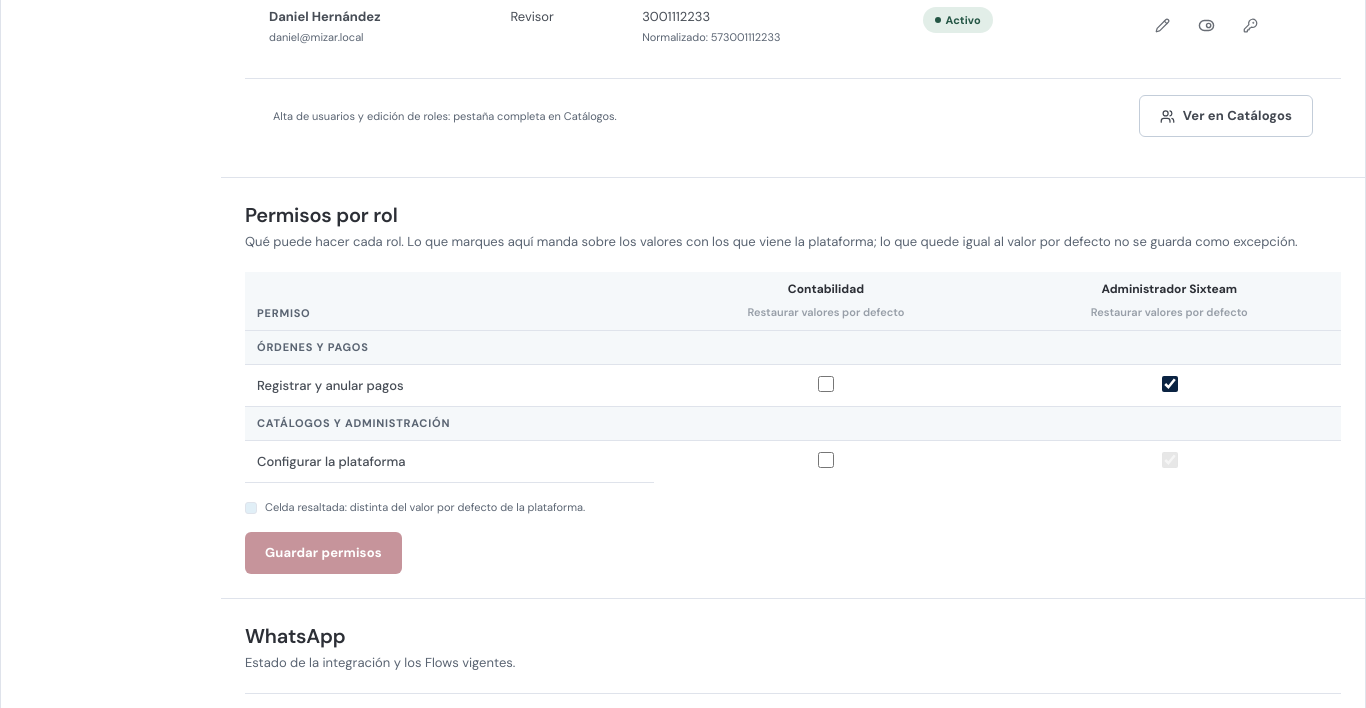
Test: SettingsScreen — Permisos por rol › «Restaurar valores por defecto» vuelve a dejar el rol sin excepción
(page scrolled)
Click the checkbox named "Registrar y anular pagos — Contabilidad" at (826, 384), box [818,376,834,392]
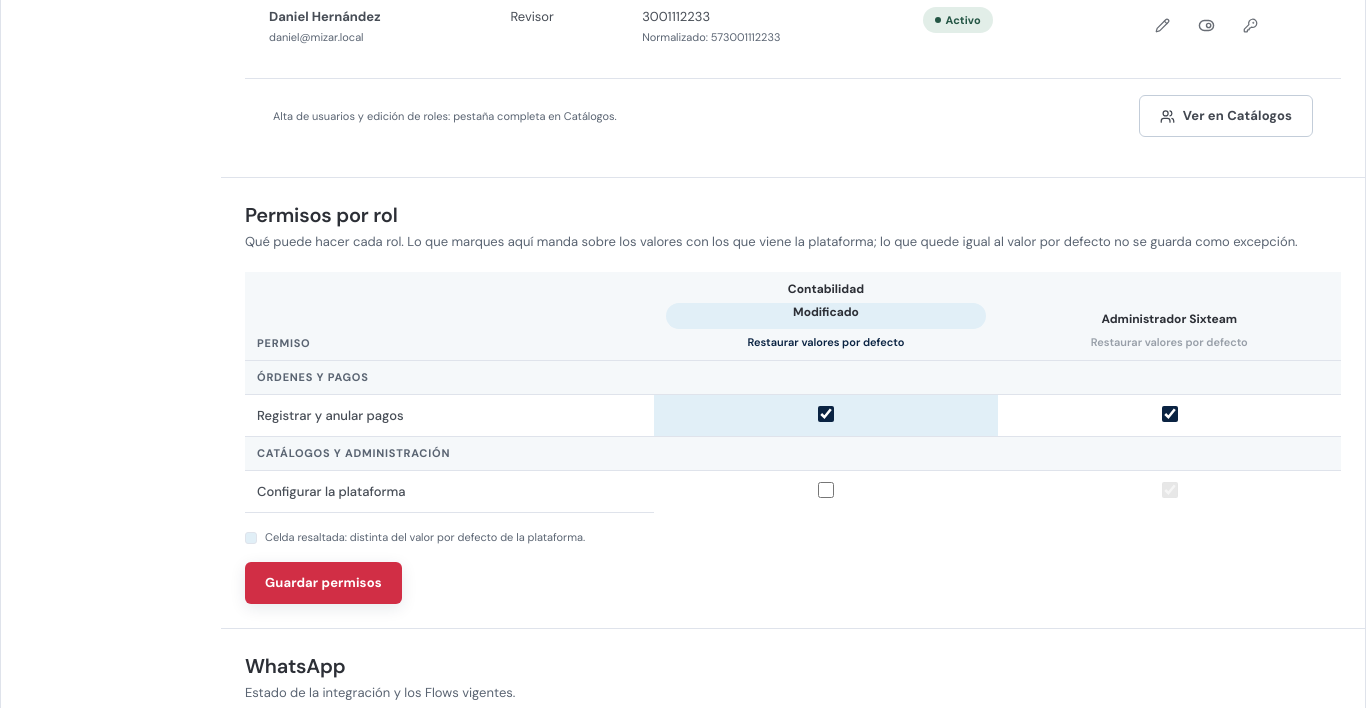
Check: the button "Restaurar valores por defecto" below "Modificado" is enabled
Click the button "Restaurar valores por defecto" below "Modificado" at (826, 343), box [666,333,986,352]
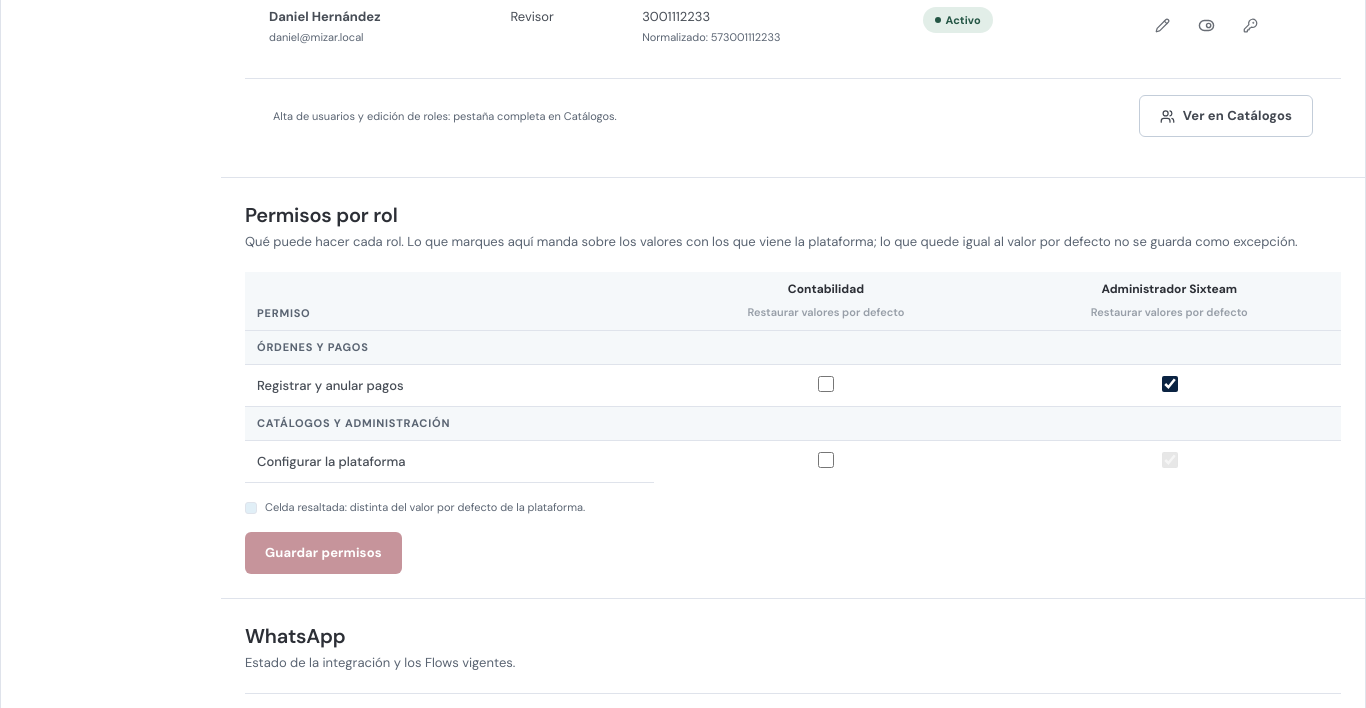
Check: the checkbox named "Registrar y anular pagos — Contabilidad" is not checked, box [818,376,834,392]
Check: the button "Guardar permisos" is disabled, box [245,532,402,574]
